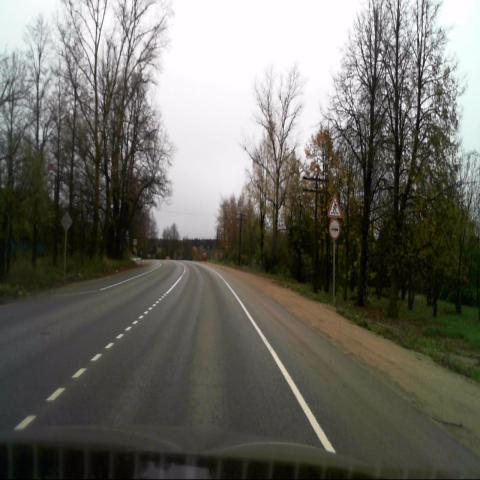3_20: (329, 218, 340, 239)
